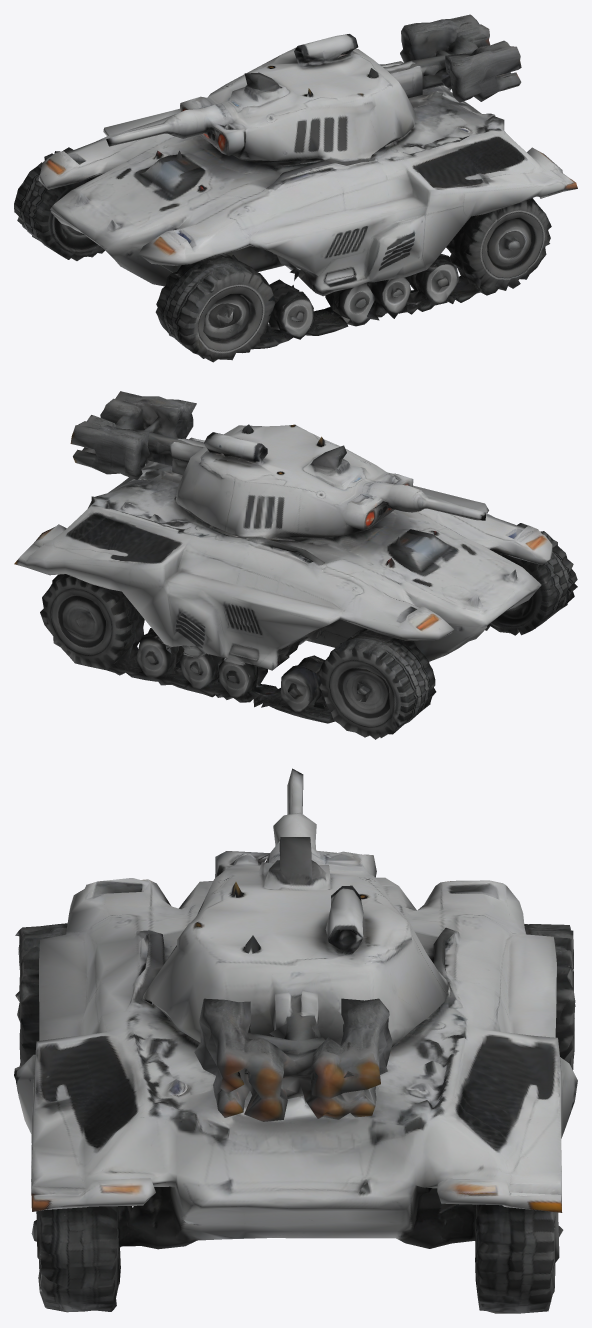
Rendered from Meshy_AI_A_lunar_heavy_tank_r_0417233308_texture.glb.
3 views of the same model, one above another, from view 1: azimuth 30°, elevation 25°; view 2: azimuth 150°, elevation 25°; view 3: azimuth 270°, elevation 25° (orthographic). The views are drawn at different scales.
Size of the model in its own units: 2 by 0.9424 by 1.44.
1 material, 1 textured.
